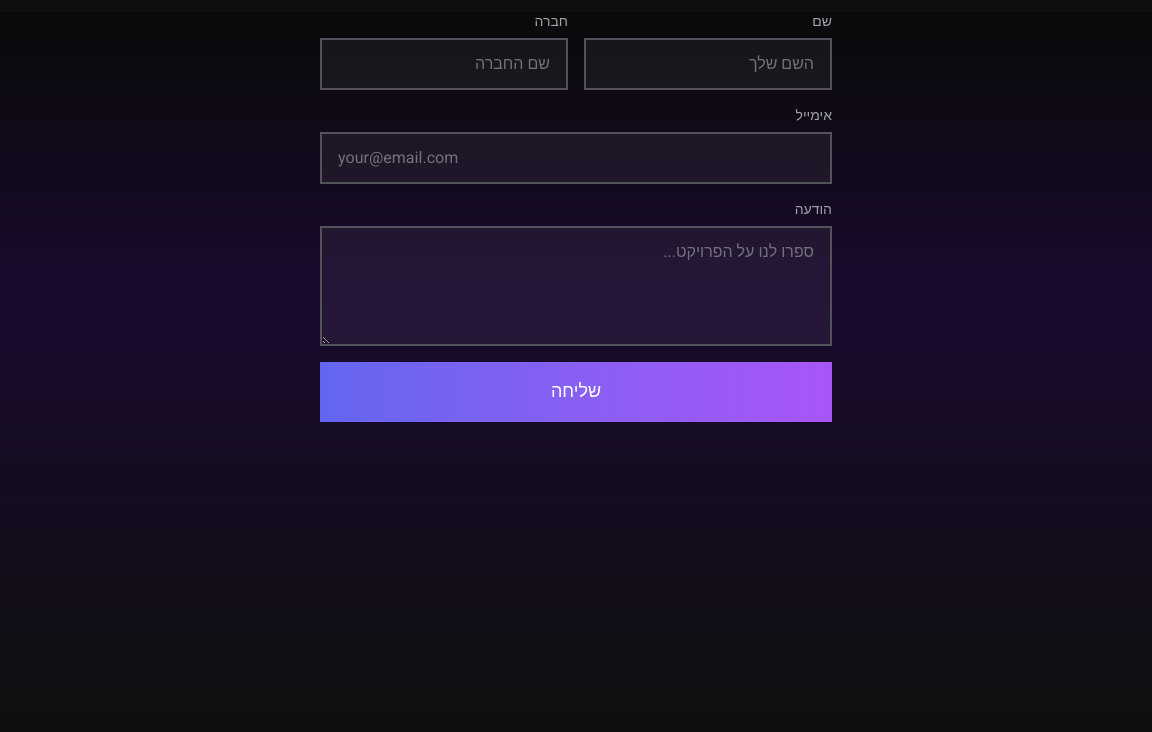
Test case: ContactForm › shows error for invalid email
Type "Test" into the field with placeholder "השם שלך" at [708, 64], box [584,38,832,90]
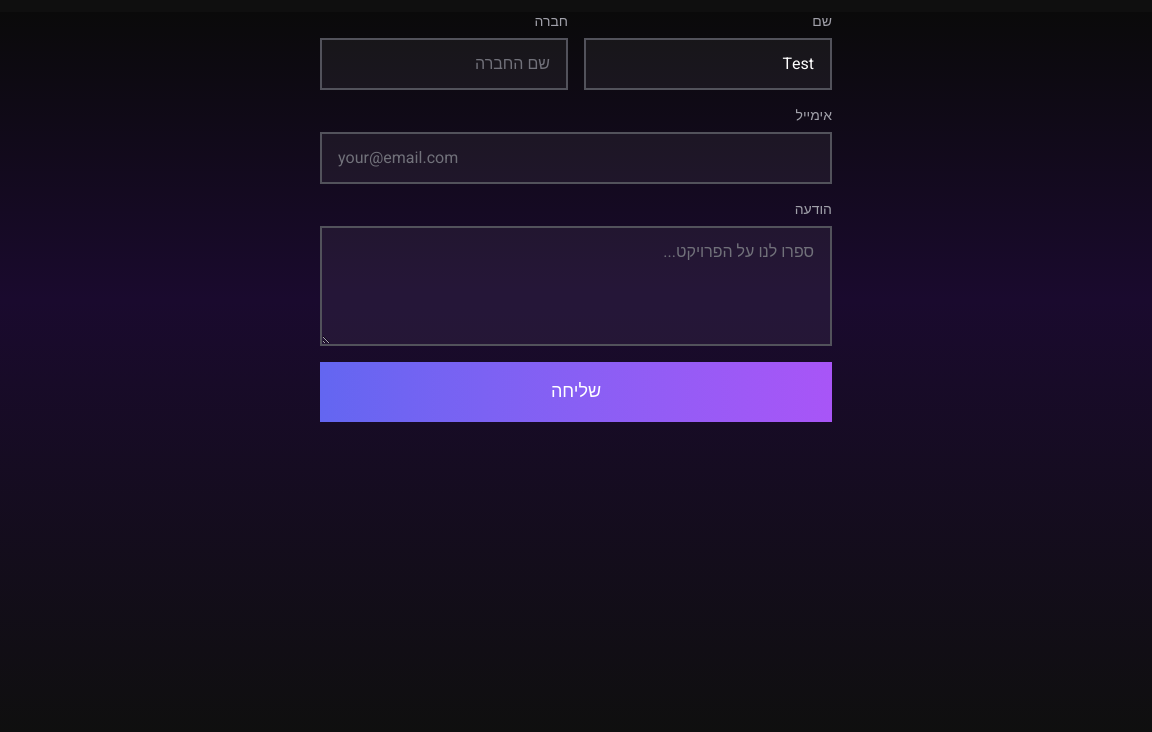
Type "not-an-email" into the field with placeholder "your@email.com" at [576, 158], box [320,132,832,184]
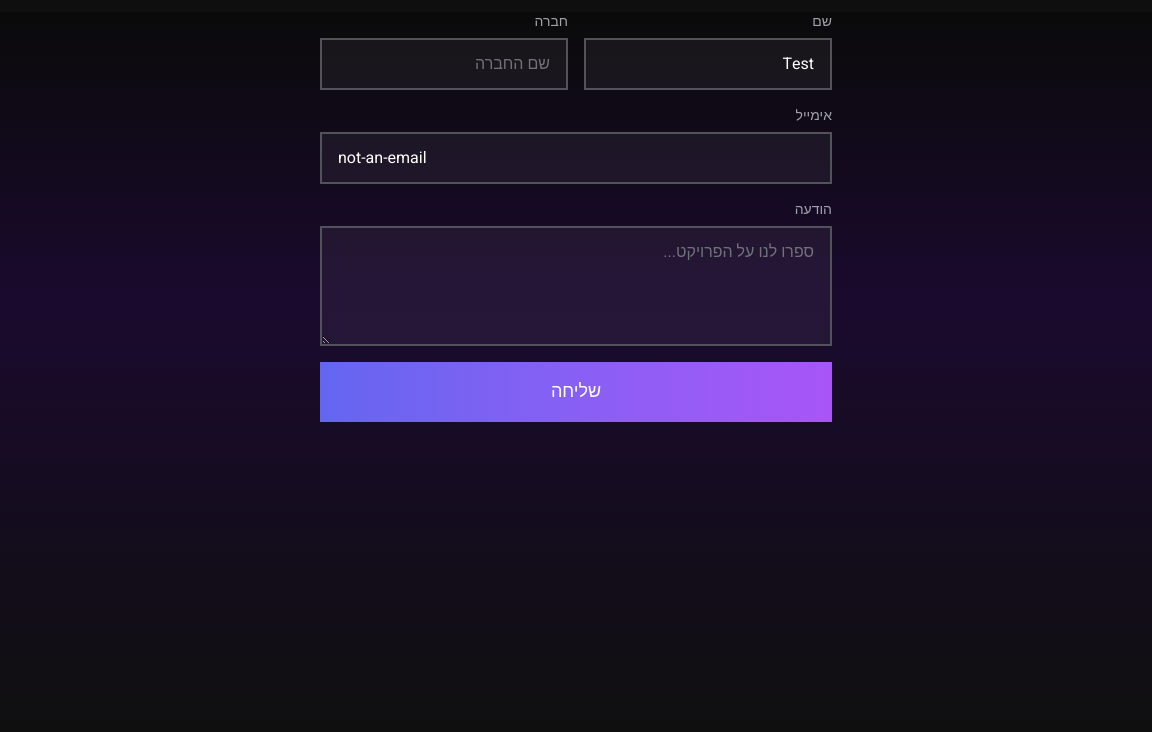
Type "Message" into the text box with placeholder "ספרו לנו על הפרויקט..." at [576, 286], box [320,226,832,346]
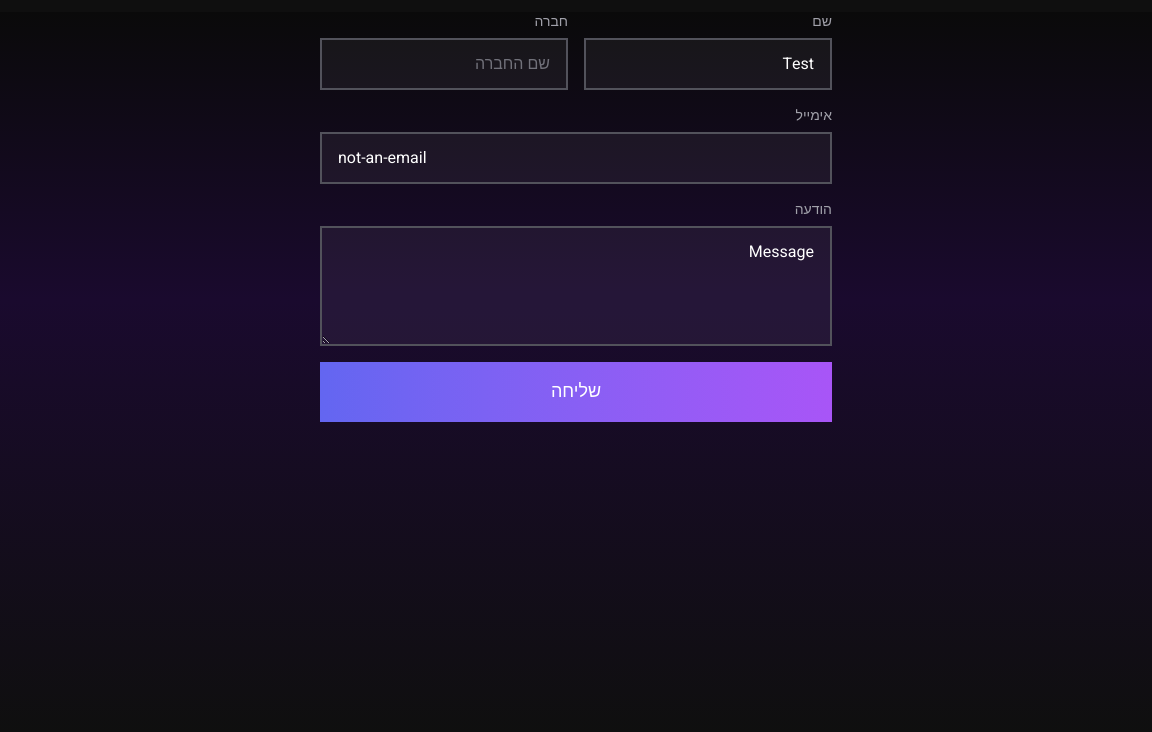
Click the button "שליחה" at [576, 392], box [320,362,832,422]
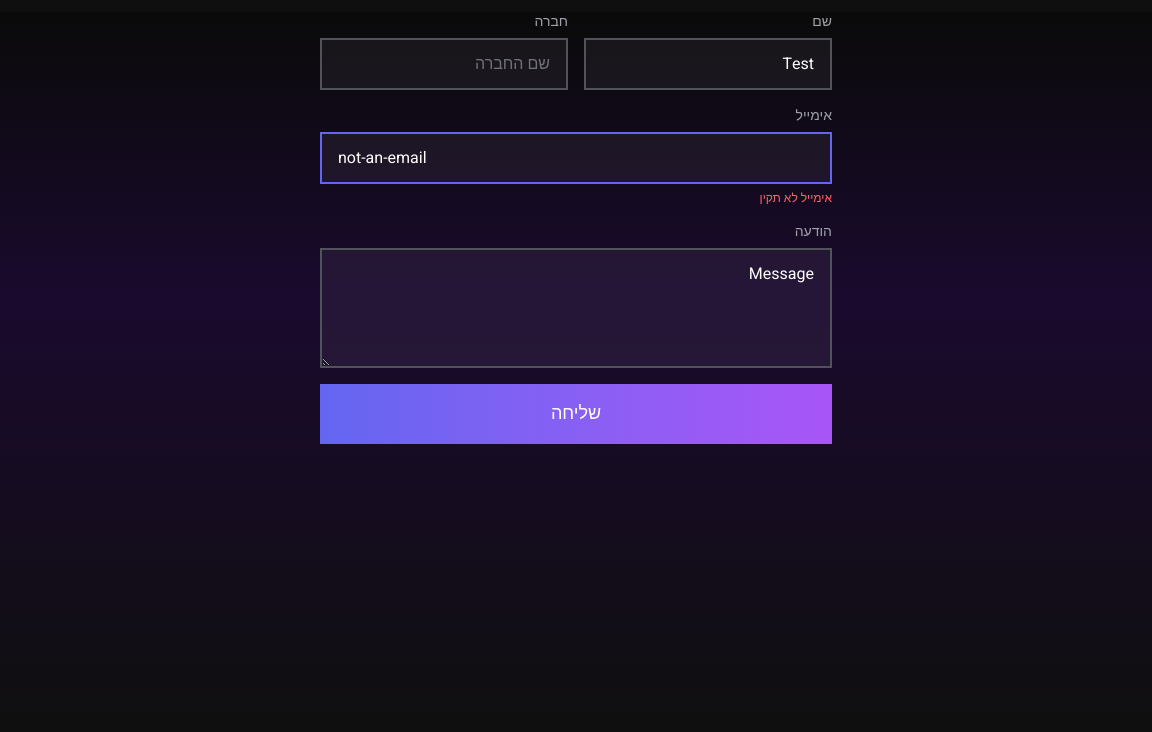
Expected: the text "אימייל לא תקין" is shown, [760,189,832,207]
